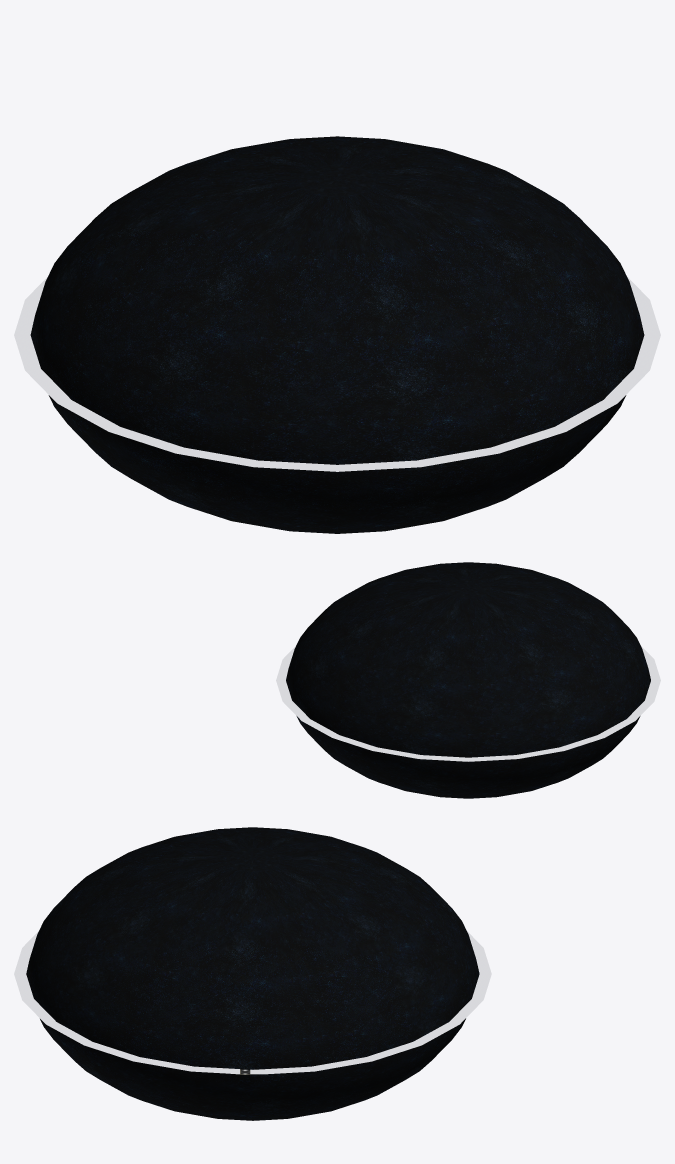
3 views of the same model, one above another, from view 1: azimuth 30°, elevation 25°; view 2: azimuth 150°, elevation 25°; view 3: azimuth 270°, elevation 25° (orthographic). The views are drawn at different scales.
Visible parts, largest first — view 1: SNESVL2.063, SNESVL2.036; view 2: SNESVL2.063, SNESVL2.036; view 3: SNESVL2.063, SNESVL2.036.
Boxes of the visible parts, x1,y1,x2,y2 form: SNESVL2.063: (30,136,644,533); SNESVL2.036: (14,275,660,471); SNESVL2.063: (286,562,650,798); SNESVL2.036: (276,646,660,761); SNESVL2.063: (26,827,479,1120); SNESVL2.036: (14,931,491,1074).
Bounding box in the file's own units: 269997 × 105170 × 266815.
Materials: 31 (31 with a texture image).
